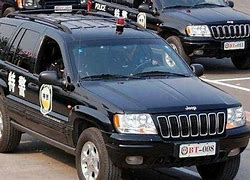specialcar: (1, 6, 249, 175)
